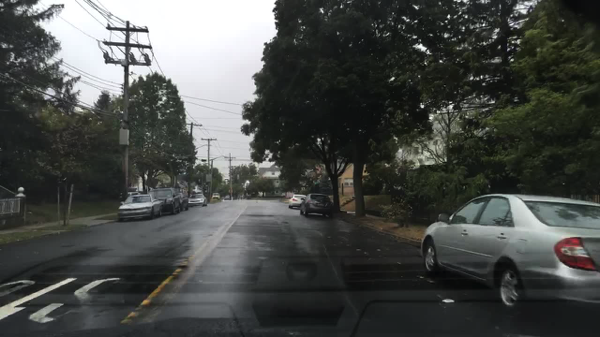car: (422, 193, 599, 316), (118, 191, 163, 223), (148, 187, 183, 215), (298, 193, 335, 218), (288, 194, 306, 210), (187, 193, 206, 208), (178, 192, 188, 211), (211, 192, 220, 200)
